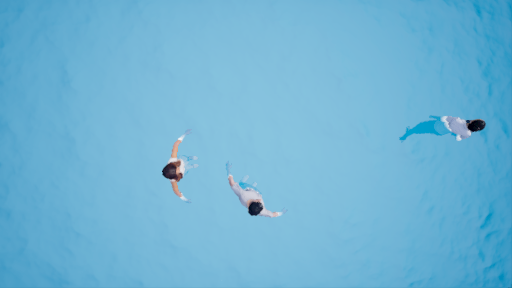person: (223, 162, 286, 223), (396, 108, 488, 144), (163, 128, 200, 204)
